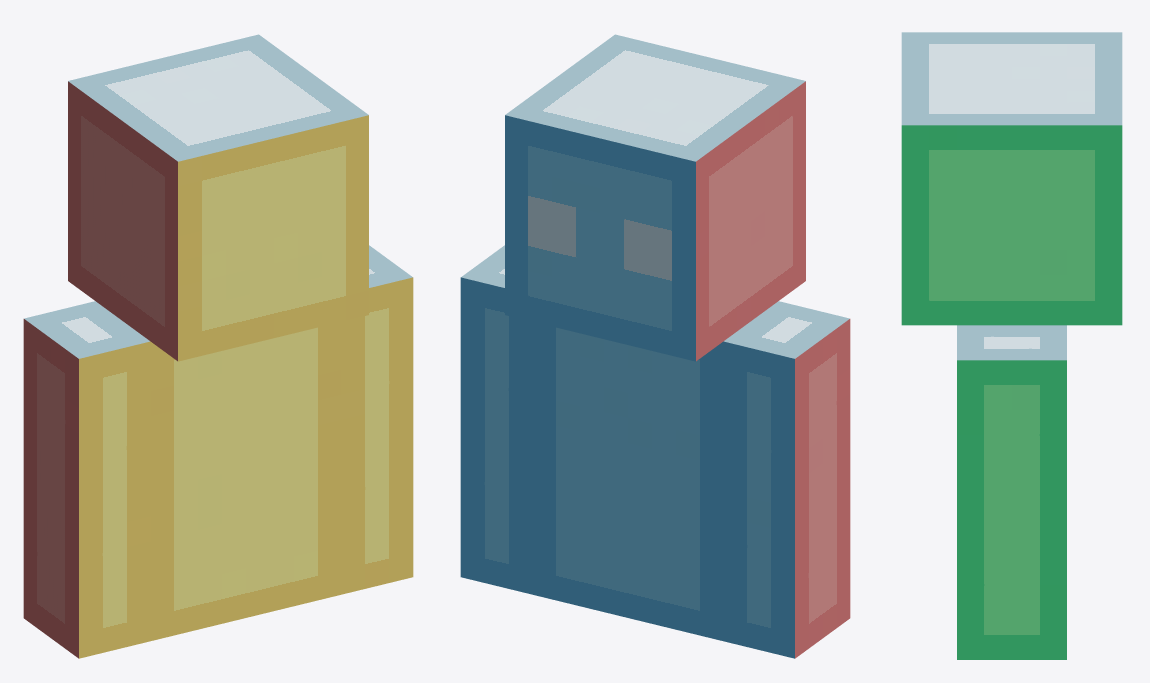
3 renders of one model, left to right at view 1: azimuth 30°, elevation 25°; view 2: azimuth 150°, elevation 25°; view 3: azimuth 270°, elevation 25°, orthographic.
Visible parts, largest first — view 1: Head, Body, Left Arm, Right Arm; view 2: Head, Body, Left Arm, Right Arm; view 3: Head, Right Arm.
Boxes of the visible parts, x1,y1,x2,y2 form: Head: (68,34,368,361); Body: (150,322,341,640); Left Arm: (23,301,150,658); Right Arm: (341,245,413,594); Head: (505,34,805,361); Body: (532,322,723,640); Left Arm: (723,301,850,658); Right Arm: (460,245,532,594); Head: (901,32,1122,325); Right Arm: (957,325,1066,659).
Size of the model in its own units: 0.9062 by 1.3 by 0.5625.
1 material, 1 textured.
